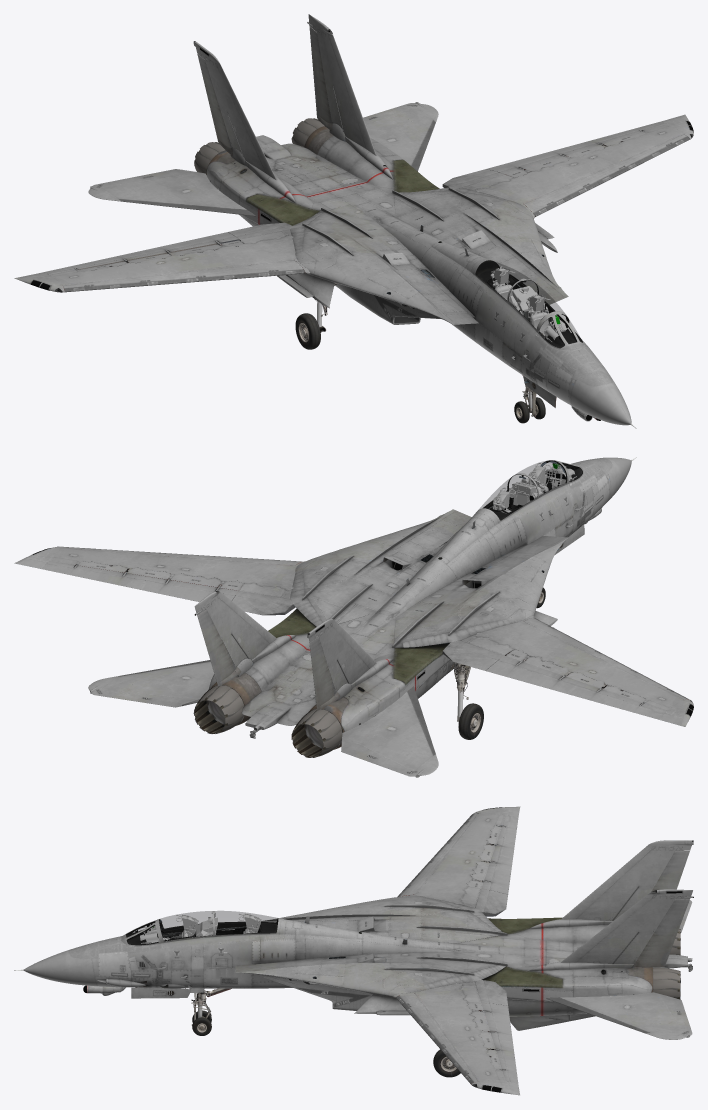
File: F14D_SUPERTOMCAT.fbx
3 renders of one model, top to bottom at view 1: azimuth 30°, elevation 25°; view 2: azimuth 150°, elevation 25°; view 3: azimuth 270°, elevation 25°, orthographic. The views are drawn at different scales.
Parts seen in each view (by area): view 1: vehicle#fuse_79, vehicle#tail_157, vehicle#wing_r_180, vehicle#wing_l_166, vehicle#elevator1_159, vehicle#blister1_115, vehicle#elevator0_158, vehicle#slat_r_181, vehicle#slat_l_167, vehicle#rudder0_163, Meshpart10, vehicle#flap_l_168 (+6 smaller); view 2: vehicle#fuse_79, vehicle#tail_157, vehicle#wing_r_180, vehicle#wing_l_166, vehicle#elevator1_159, vehicle#elevator0_158, Meshpart10, vehicle#blister1_115, vehicle#flap_r_182, vehicle#flap_l_168, vehicle#rudder0_163, vehicle#slat_r_181 (+10 smaller); view 3: vehicle#fuse_79, vehicle#tail_157, vehicle#wing_l_166, vehicle#elevator0_158, vehicle#wing_r_180, vehicle#blister1_115, vehicle#rudder0_163, vehicle#slat_l_167, vehicle#flap_r_182, vehicle#flap_l_168, vehicle#slat_r_181, Meshpart10 (+8 smaller).
Boxes of the visible parts, x1,y1,x2,y2 form: vehicle#fuse_79: (277,185,636,428); vehicle#tail_157: (193,14,433,226); vehicle#wing_r_180: (14,229,310,292); vehicle#wing_l_166: (462,114,693,218); vehicle#elevator1_159: (88,169,255,216); vehicle#blister1_115: (468,259,566,336); vehicle#elevator0_158: (363,102,438,171); vehicle#slat_r_181: (62,260,305,292); vehicle#slat_l_167: (524,133,689,216); vehicle#rudder0_163: (309,26,331,129); Meshpart10: (194,118,324,173); vehicle#flap_l_168: (486,122,663,172); vehicle#fuse_79: (283,457,636,696); vehicle#tail_157: (194,591,435,749); vehicle#wing_r_180: (461,615,693,726); vehicle#wing_l_166: (14,546,304,598); vehicle#elevator1_159: (341,686,438,777); vehicle#elevator0_158: (88,660,214,707); Meshpart10: (193,685,342,757); vehicle#blister1_115: (474,460,570,528); vehicle#flap_r_182: (486,660,663,719); vehicle#flap_l_168: (42,563,235,601); vehicle#rudder0_163: (197,610,237,686); vehicle#slat_r_181: (524,617,688,699); vehicle#fuse_79: (14,896,507,1015); vehicle#tail_157: (504,840,693,1030); vehicle#wing_l_166: (392,982,519,1095); vehicle#elevator0_158: (546,992,692,1039); vehicle#wing_r_180: (399,806,520,907); vehicle#blister1_115: (157,911,286,948); vehicle#rudder0_163: (633,899,689,967); vehicle#slat_l_167: (395,993,478,1084); vehicle#flap_r_182: (482,816,518,894); vehicle#flap_l_168: (480,1003,518,1083); vehicle#slat_r_181: (397,814,478,896); Meshpart10: (653,929,680,999).
Size of what is drawn, in the model's own units: 1953 by 556 by 1942.
